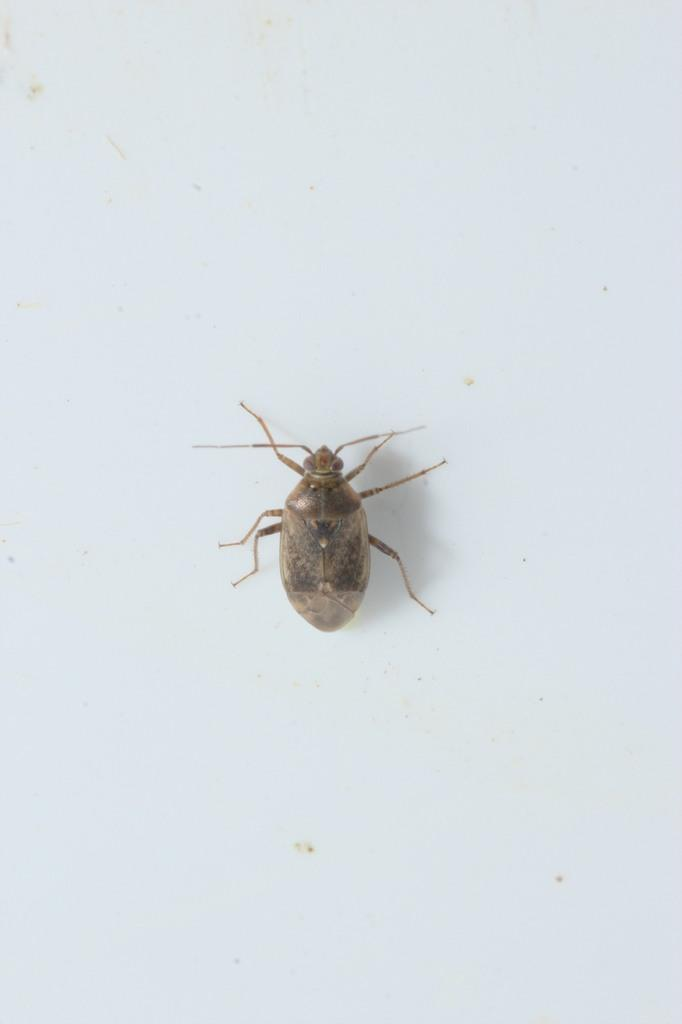plant_bugs: (163, 353, 478, 666)
